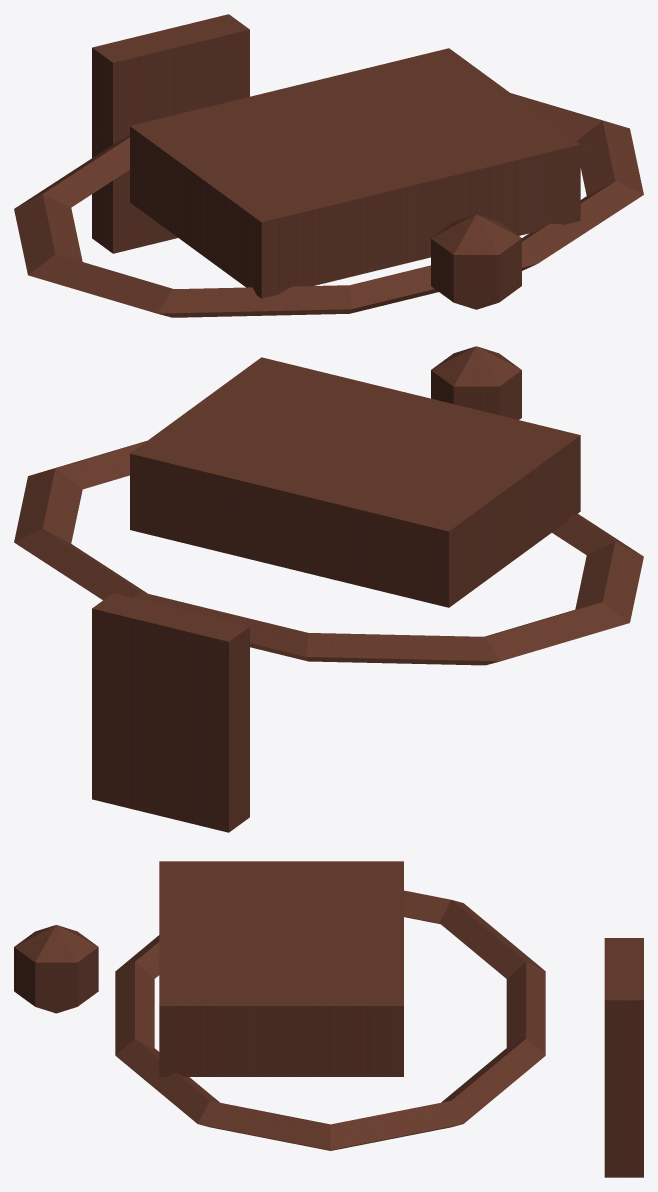
File: pouch.fbx
The picture shows the model from 3 angles, top to bottom: view 1: azimuth 30°, elevation 25°; view 2: azimuth 150°, elevation 25°; view 3: azimuth 270°, elevation 25°; orthographic projection. The views are drawn at different scales.
Parts seen in each view (by area): view 1: pouch; view 2: pouch; view 3: pouch.
Boxes of the visible parts, x1,y1,x2,y2 form: pouch: [14, 14, 643, 317]; pouch: [14, 346, 643, 832]; pouch: [14, 861, 643, 1177].
Size of the model in its own units: 0.066 by 0.025 by 0.0643.
1 material, 1 textured.
